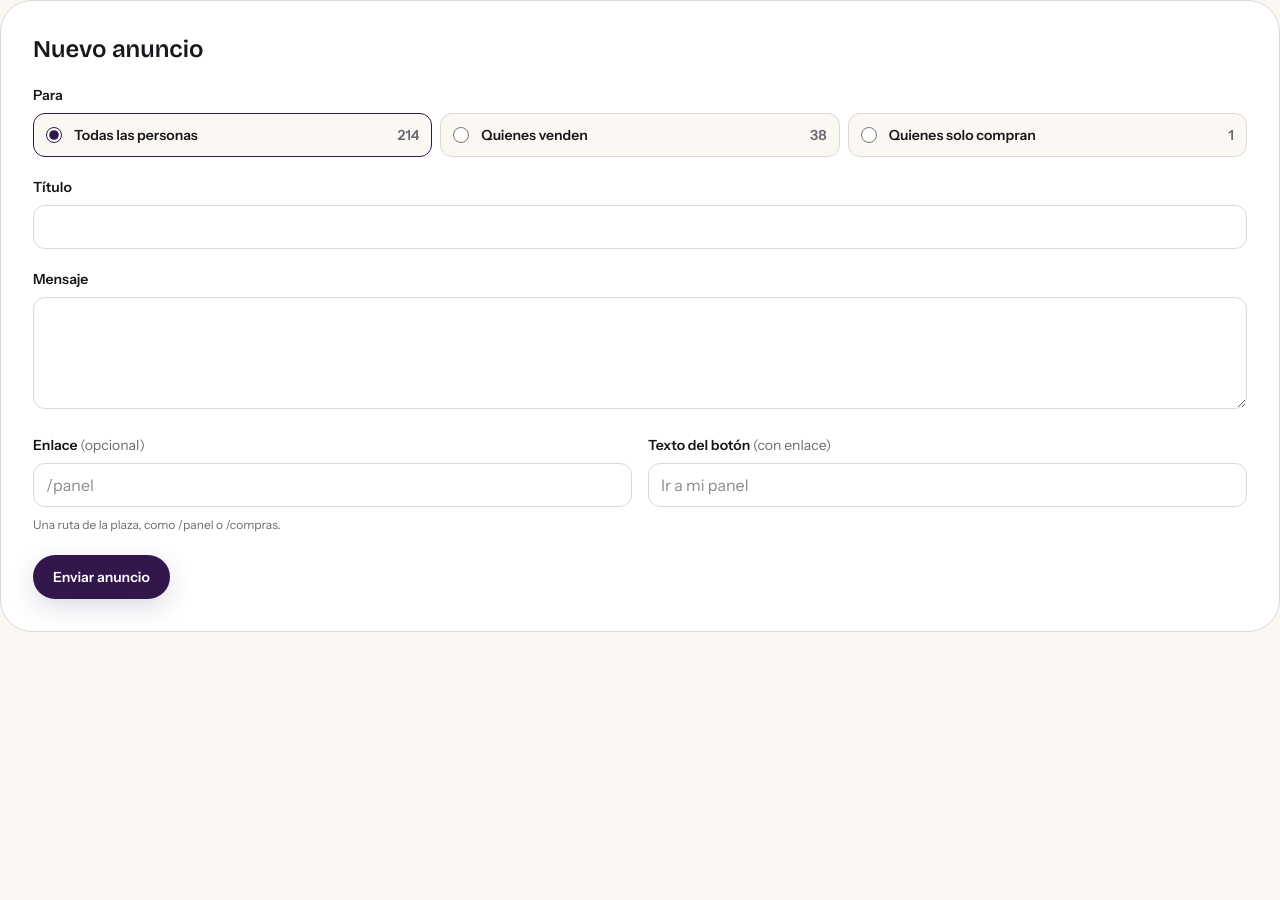
Test: BroadcastForm › counts one person in the singular
The width and height of the screenshot is (1280, 900).
Type "Mantenimiento" into the field labelled "Título" at (640, 227), box [33,205,1247,249]
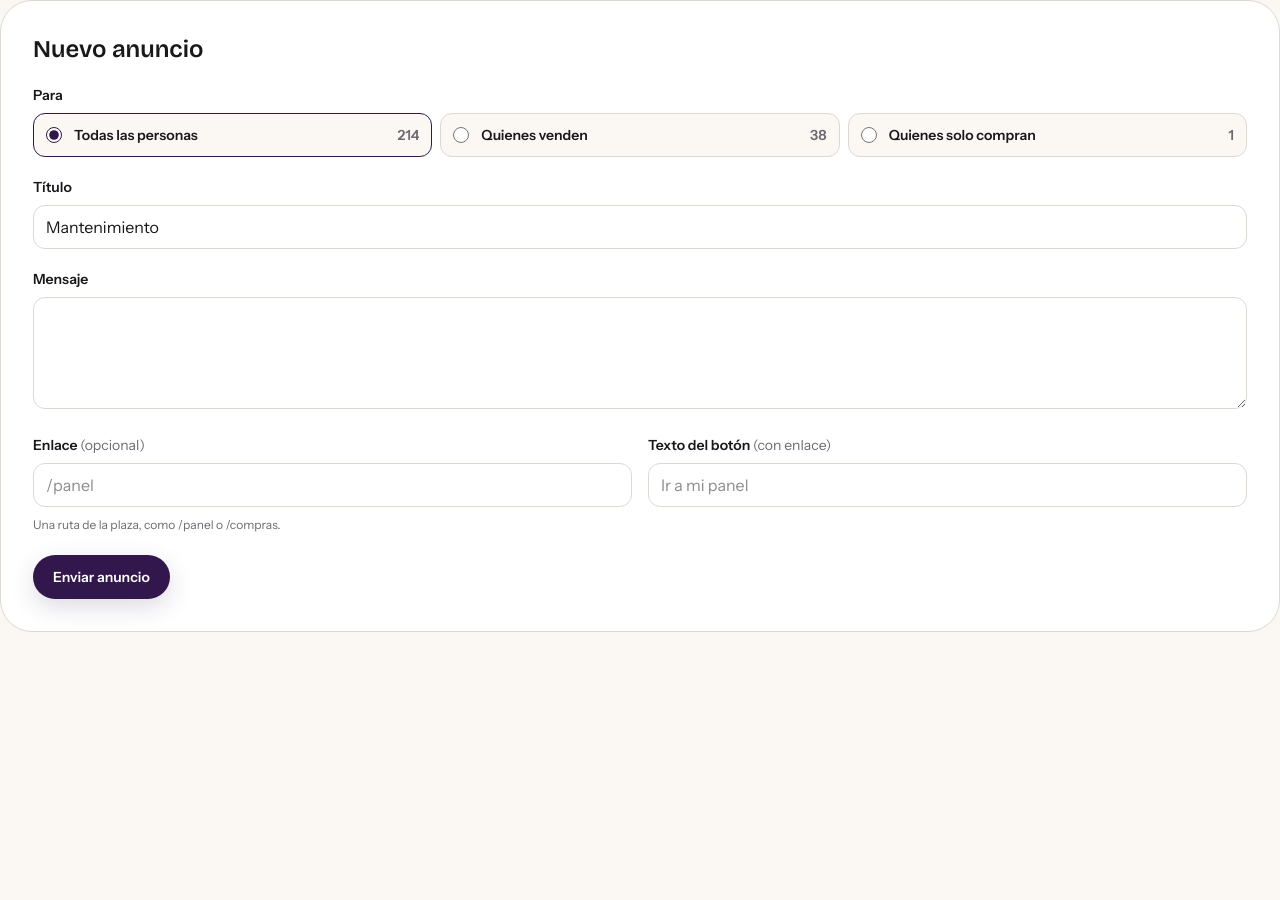
Type "El sábado por la noche." into the text box labelled "Mensaje" at (640, 353), box [33,297,1247,409]
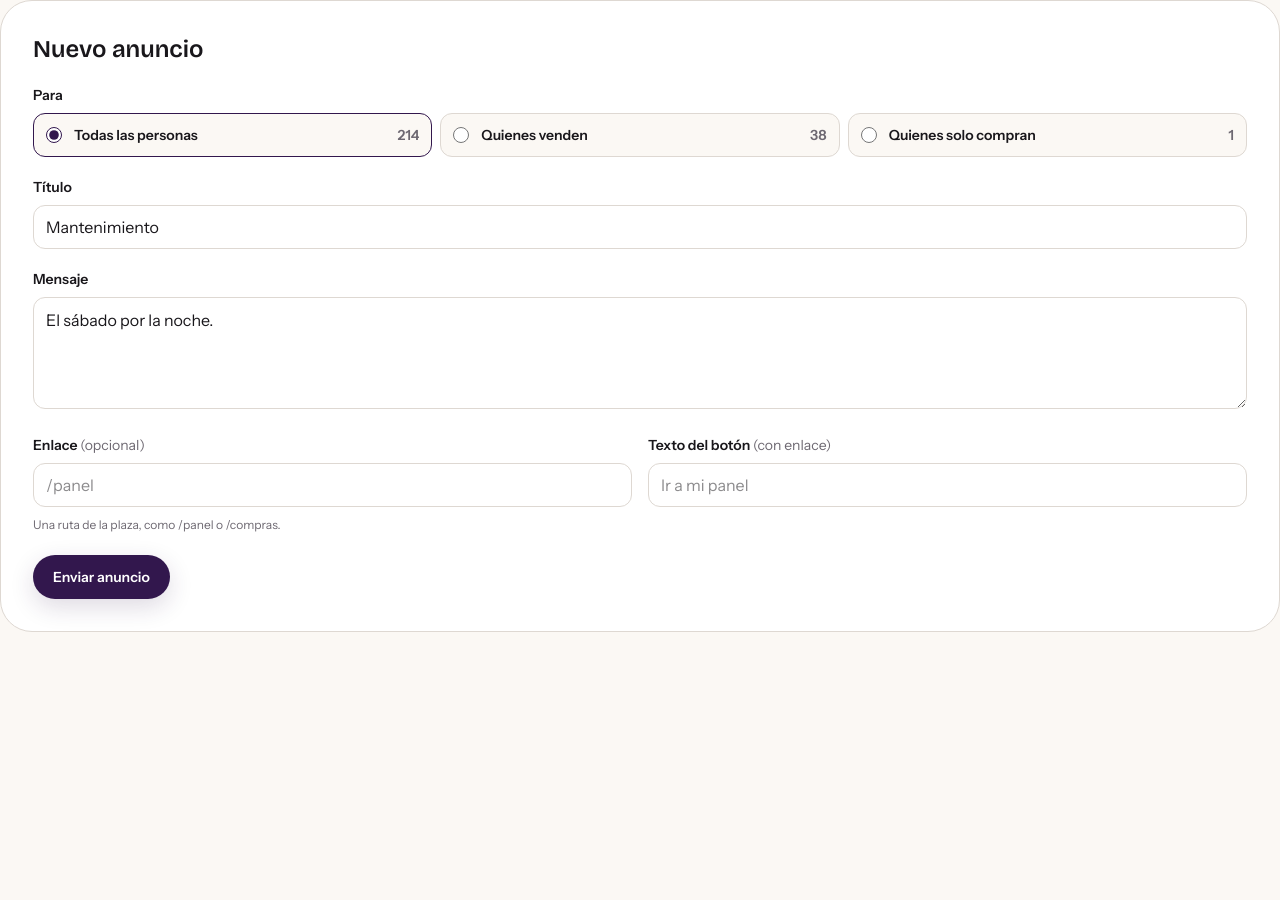
Click the radio button labelled "Quienes solo compran 1" at (869, 135), box [861,127,877,143]
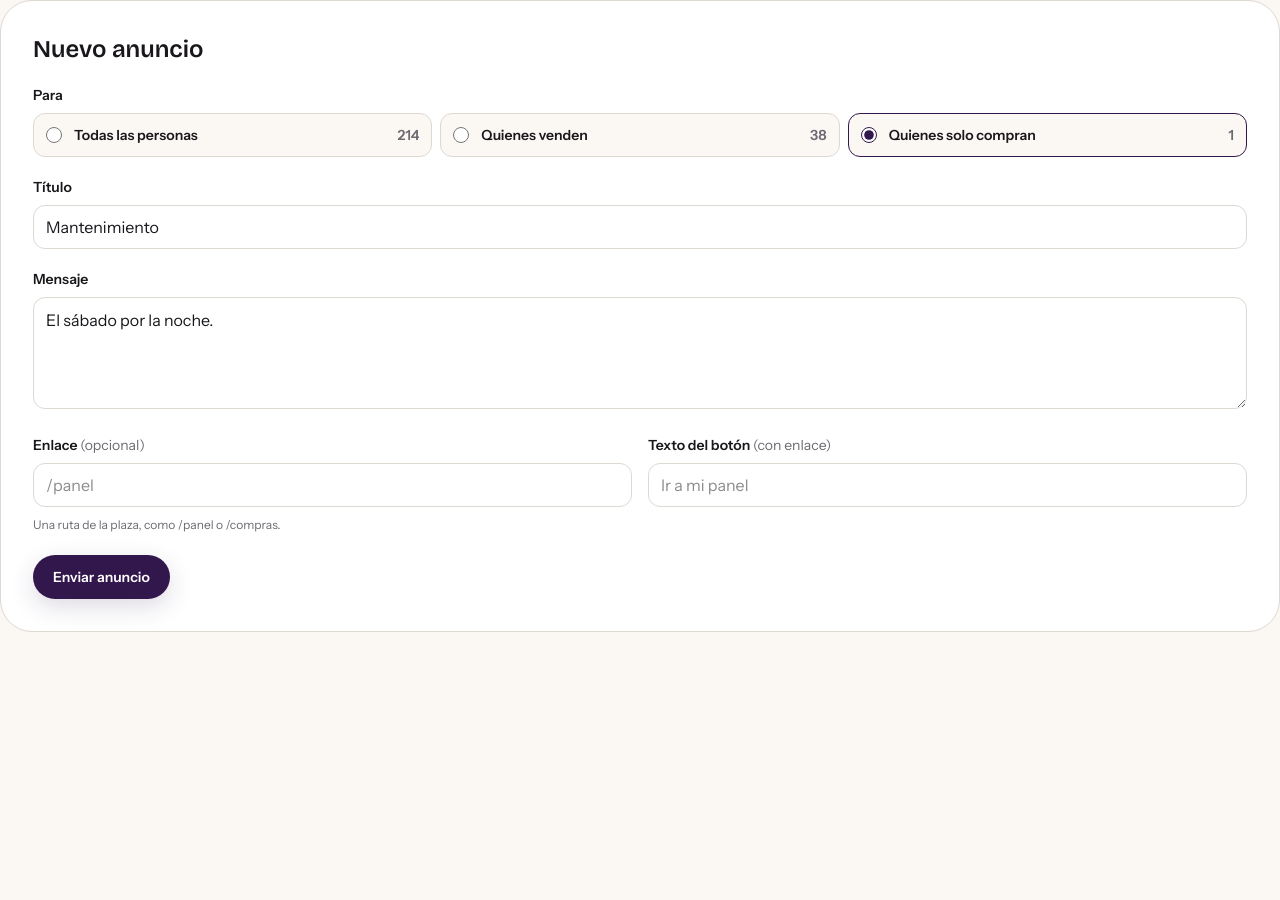
Click the button "Enviar anuncio" at (101, 577), box [33,555,170,599]
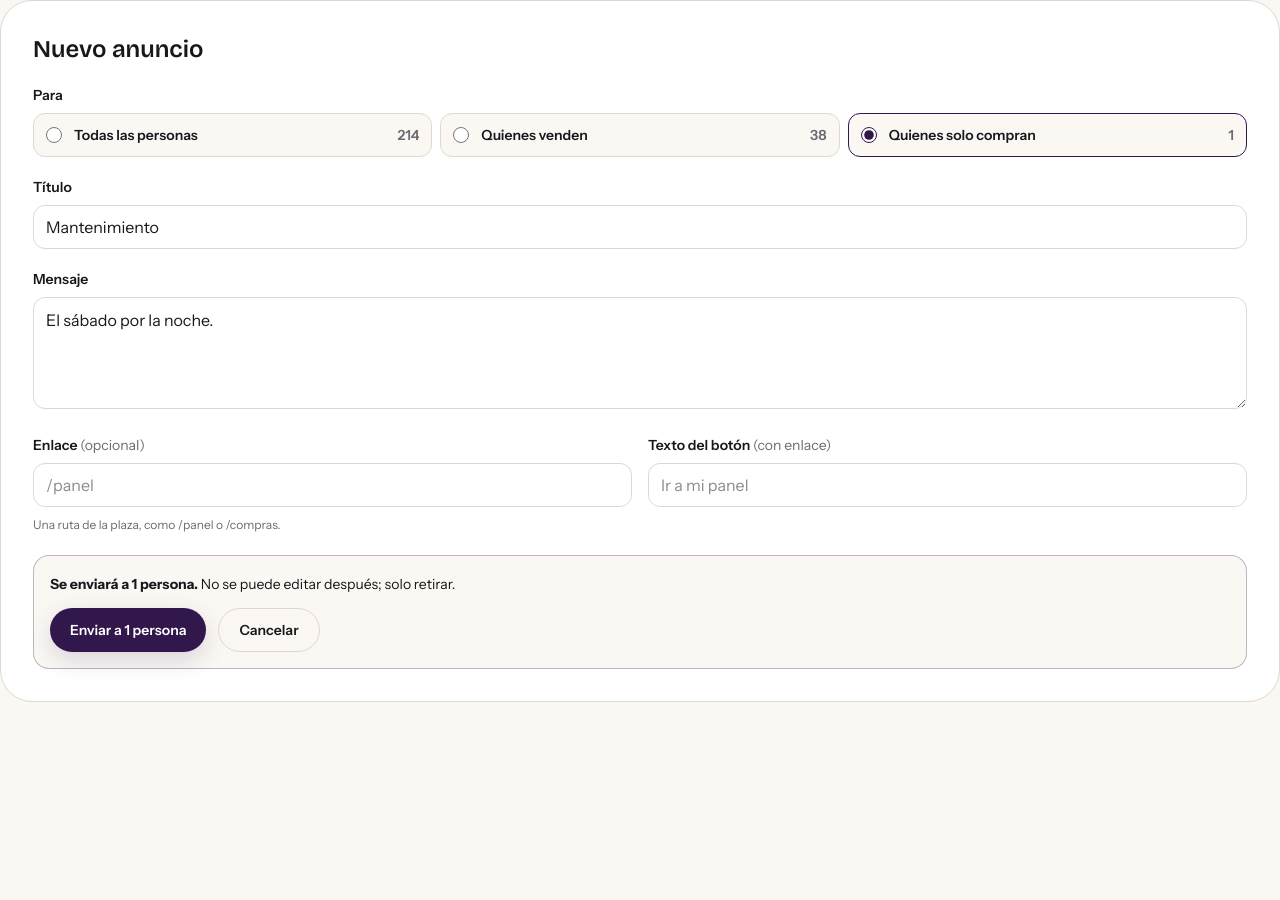
expect the button "Enviar a 1 persona" is shown: met, box [50,608,206,652]
